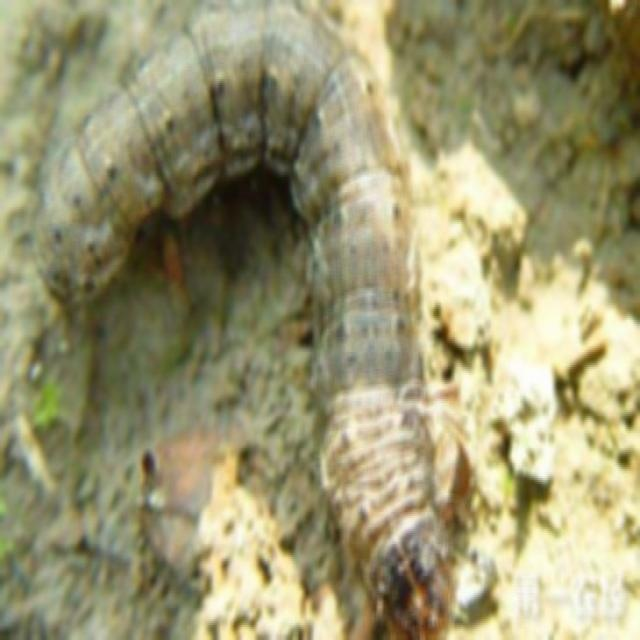black cutworm: (29, 1, 471, 630)
